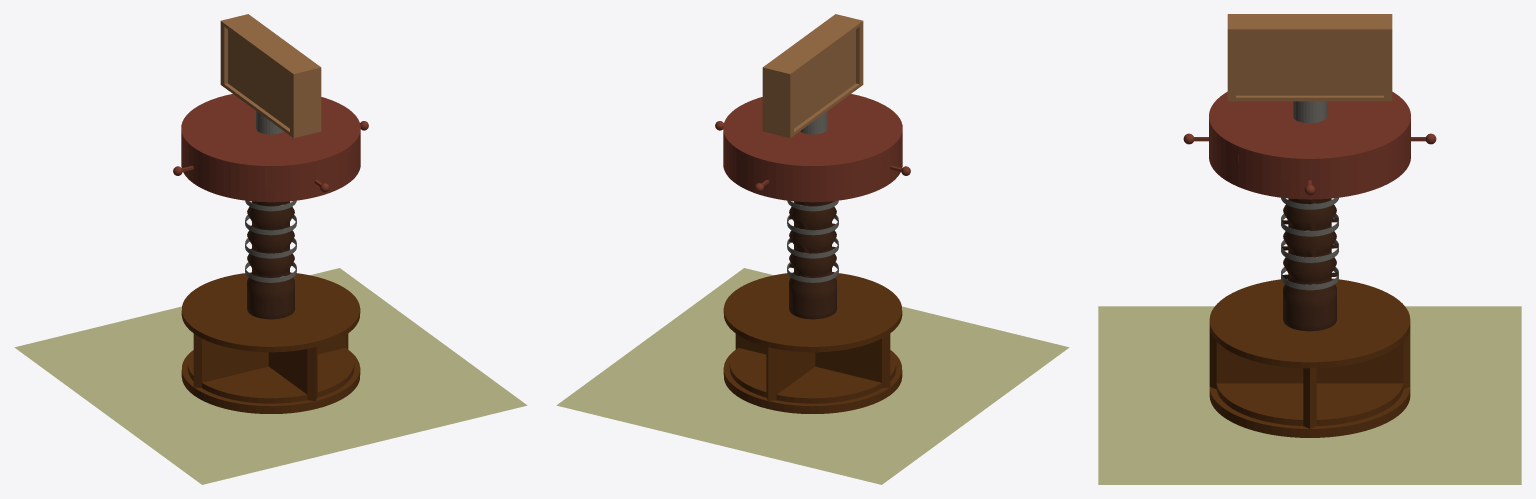
File: Estante_2.fbx
The picture shows the model from 3 angles, left to right: view 1: azimuth 30°, elevation 25°; view 2: azimuth 150°, elevation 25°; view 3: azimuth 270°, elevation 25°; orthographic projection. The views are drawn at different scales.
Parts seen in each view (by area): view 1: Suelo, Superior, BaseInferio, BaseSuperior, Anuncio, SegundoNivel; view 2: Suelo, Superior, BaseInferio, BaseSuperior, Anuncio, SegundoNivel; view 3: Suelo, Superior, Anuncio, BaseInferio, BaseSuperior, SegundoNivel, Base.
Boxes of the visible parts, x1,y1,x2,y2 form: Suelo: (14, 268, 527, 484); Superior: (173, 94, 368, 202); BaseInferio: (181, 333, 360, 413); BaseSuperior: (181, 272, 360, 352); Anuncio: (220, 14, 321, 138); SegundoNivel: (247, 201, 294, 319); Suelo: (556, 268, 1069, 484); Superior: (715, 94, 910, 202); BaseInferio: (723, 333, 902, 413); BaseSuperior: (723, 272, 902, 352); Anuncio: (762, 14, 863, 138); SegundoNivel: (789, 201, 836, 319); Suelo: (1098, 306, 1521, 484); Superior: (1183, 91, 1436, 199); Anuncio: (1227, 14, 1392, 101); BaseInferio: (1209, 328, 1410, 437); BaseSuperior: (1209, 278, 1410, 368); SegundoNivel: (1281, 198, 1338, 331); Base: (1293, 101, 1326, 123).
Bounding box in the file's own units: 8940 × 8723 × 8940.
